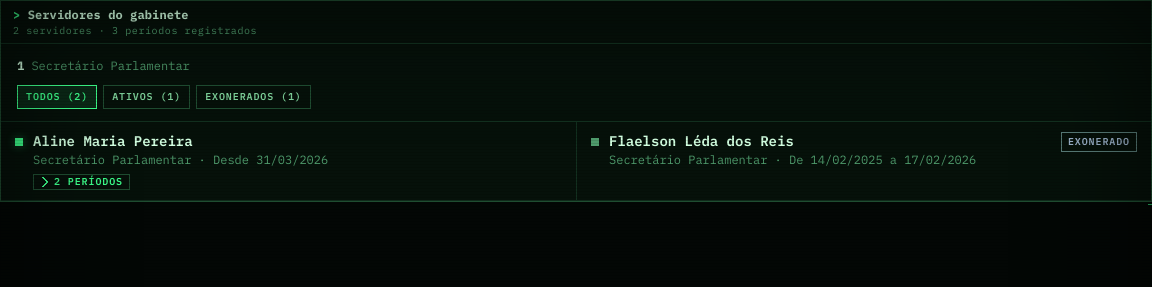
Test: GabineteList — uma entrada por servidor › o botão de períodos expande a lista do servidor
Click the button "2 períodos" at {"x": 82, "y": 182}, box x1=33 y1=174 x2=130 y2=190
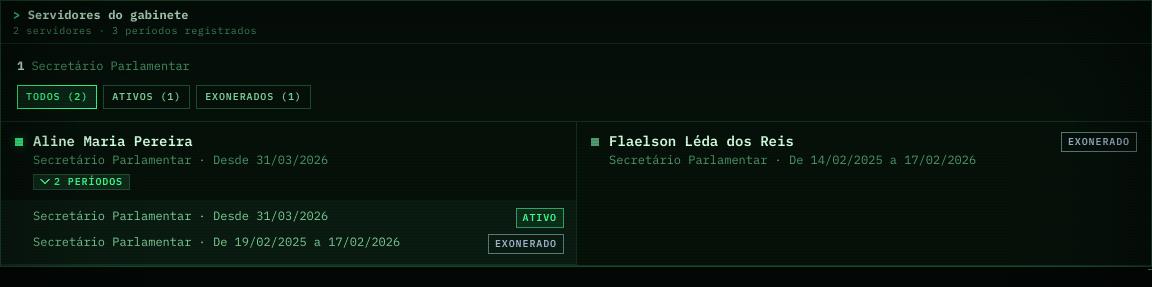
Now the list named "Períodos de ALINE MARIA PEREIRA" shows "Desde 31/03/2026", box x1=213 y1=208 x2=328 y2=223
Now the list named "Períodos de ALINE MARIA PEREIRA" shows "De 19/02/2025 a 17/02/2026", box x1=213 y1=234 x2=400 y2=249
